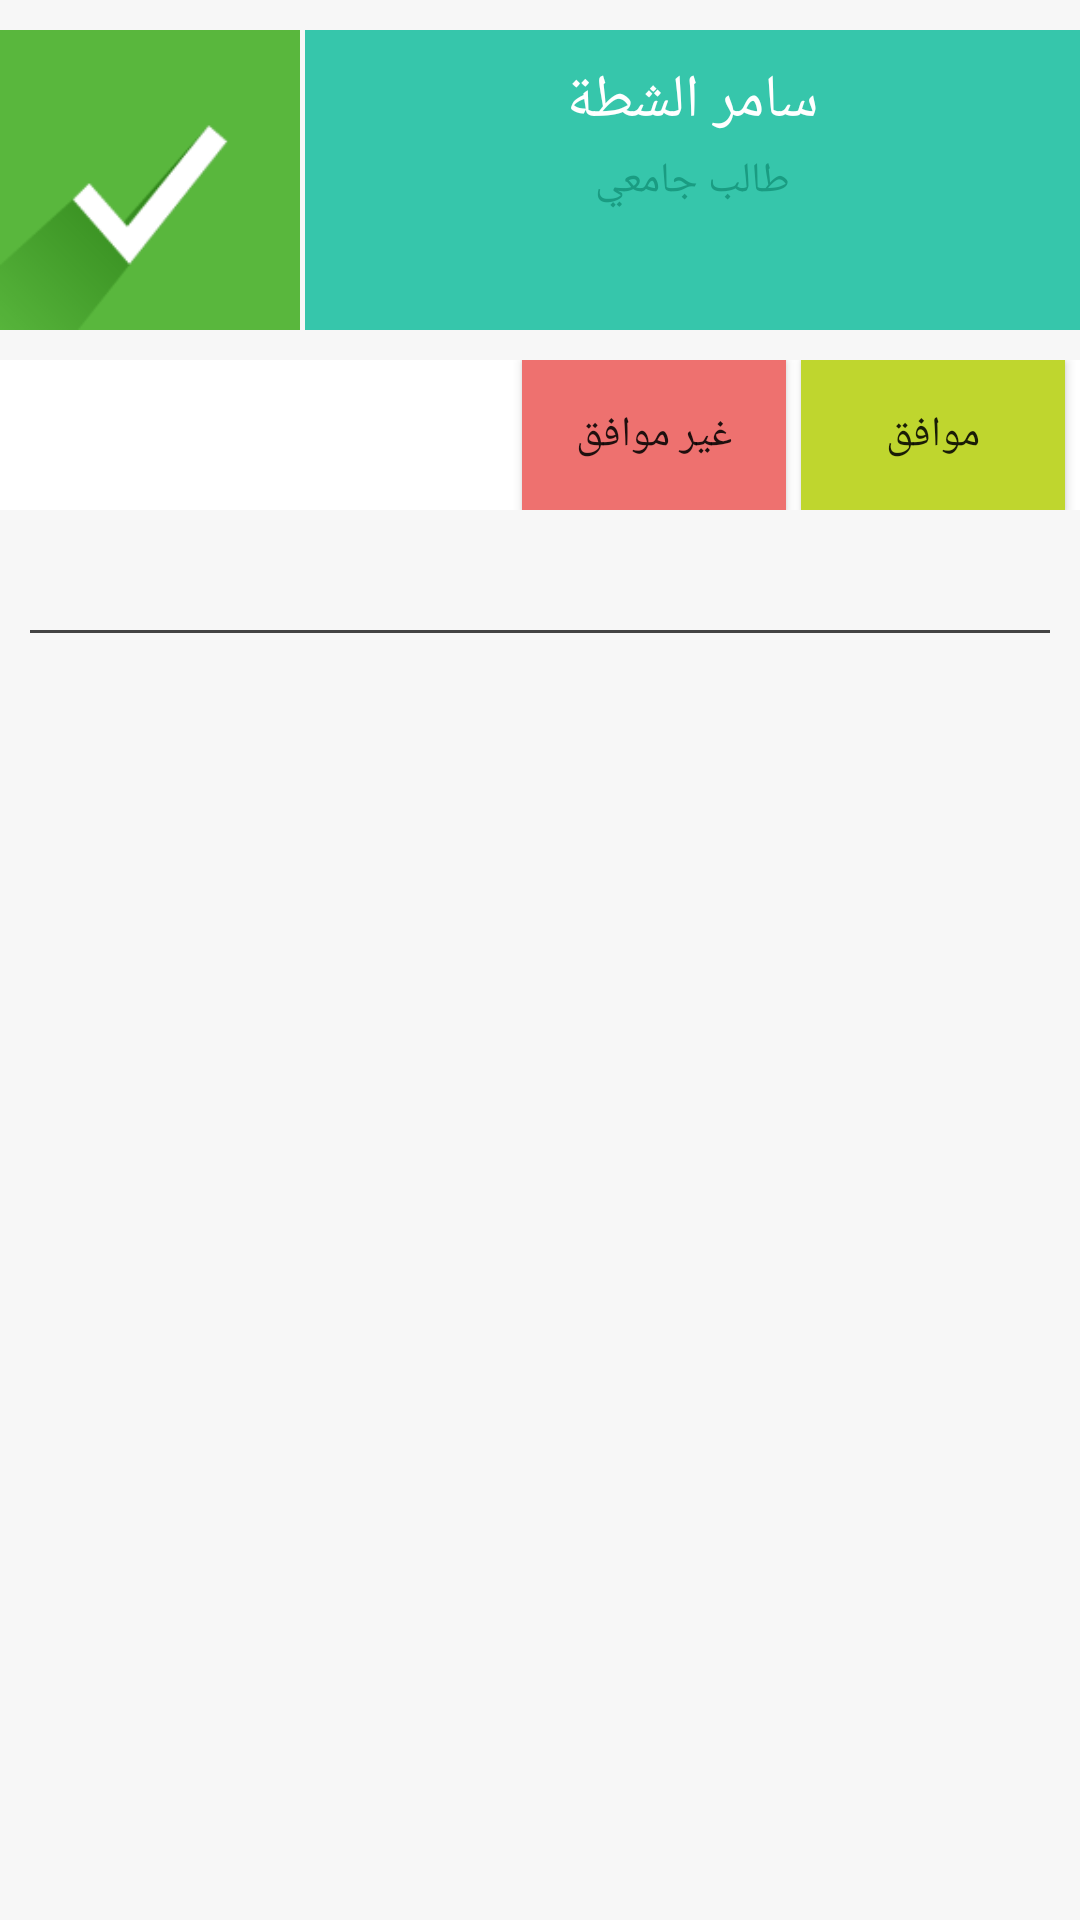

Icon click points for this 1080×1920 phone screenshot, format point (x, y):
check: point (150, 180)
